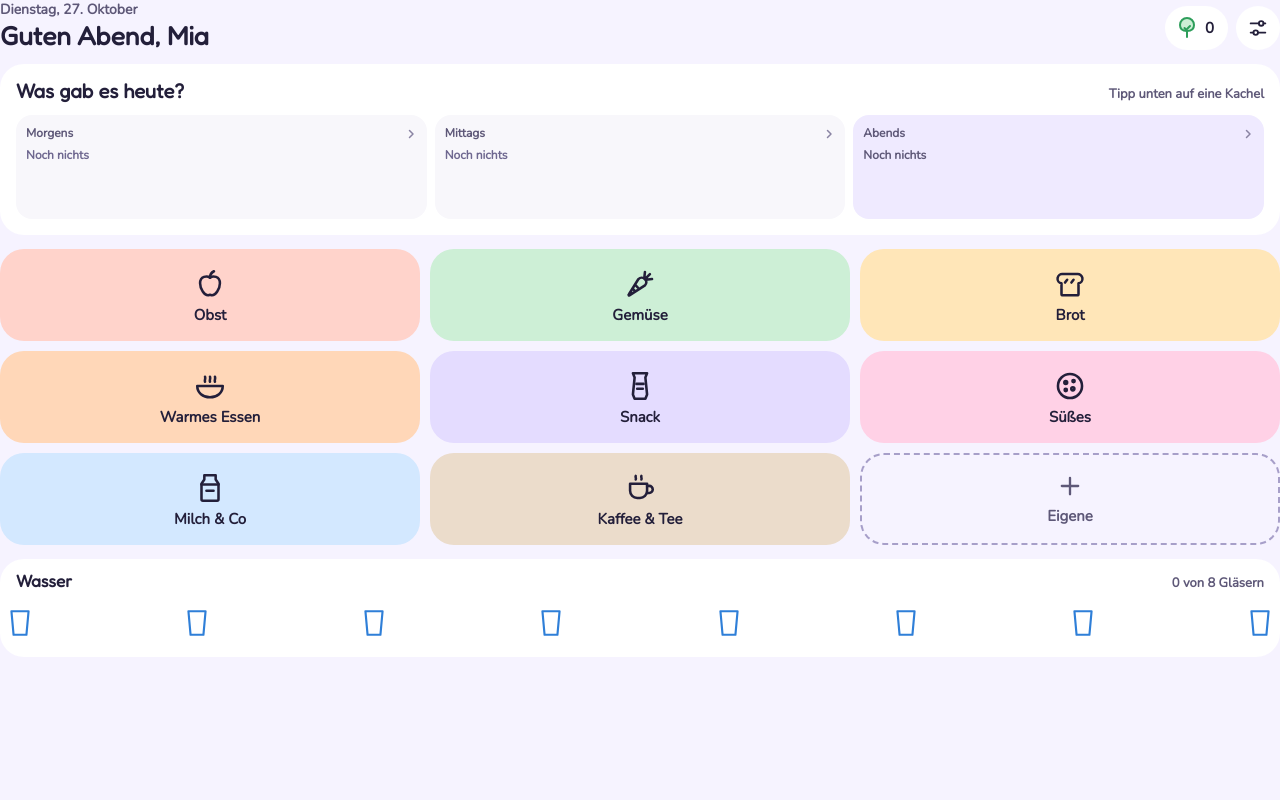
TodayView › a part column opens a sheet listing entries, and delete removes one
Click the button "Obst" at [210, 295], box [0,249,420,341]
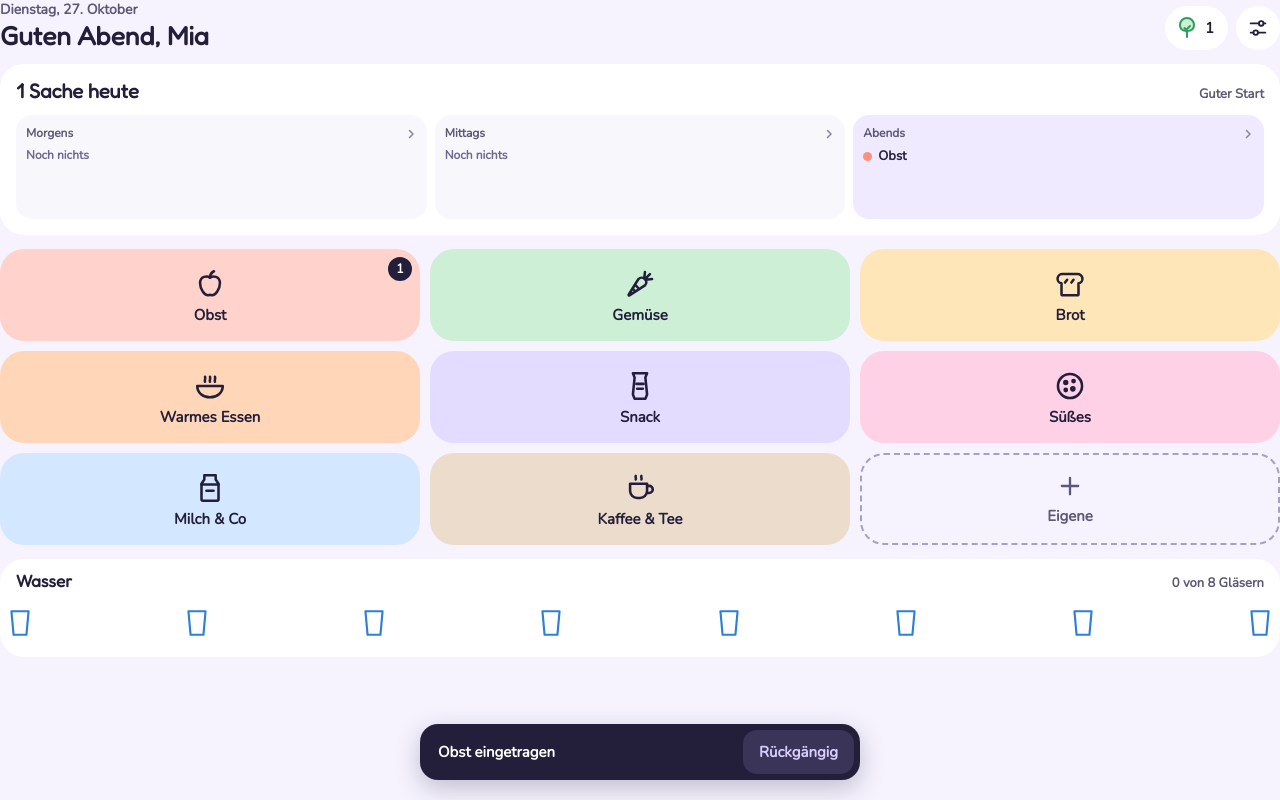
Click the button "Süßes" at [1070, 397], box [860,351,1279,443]
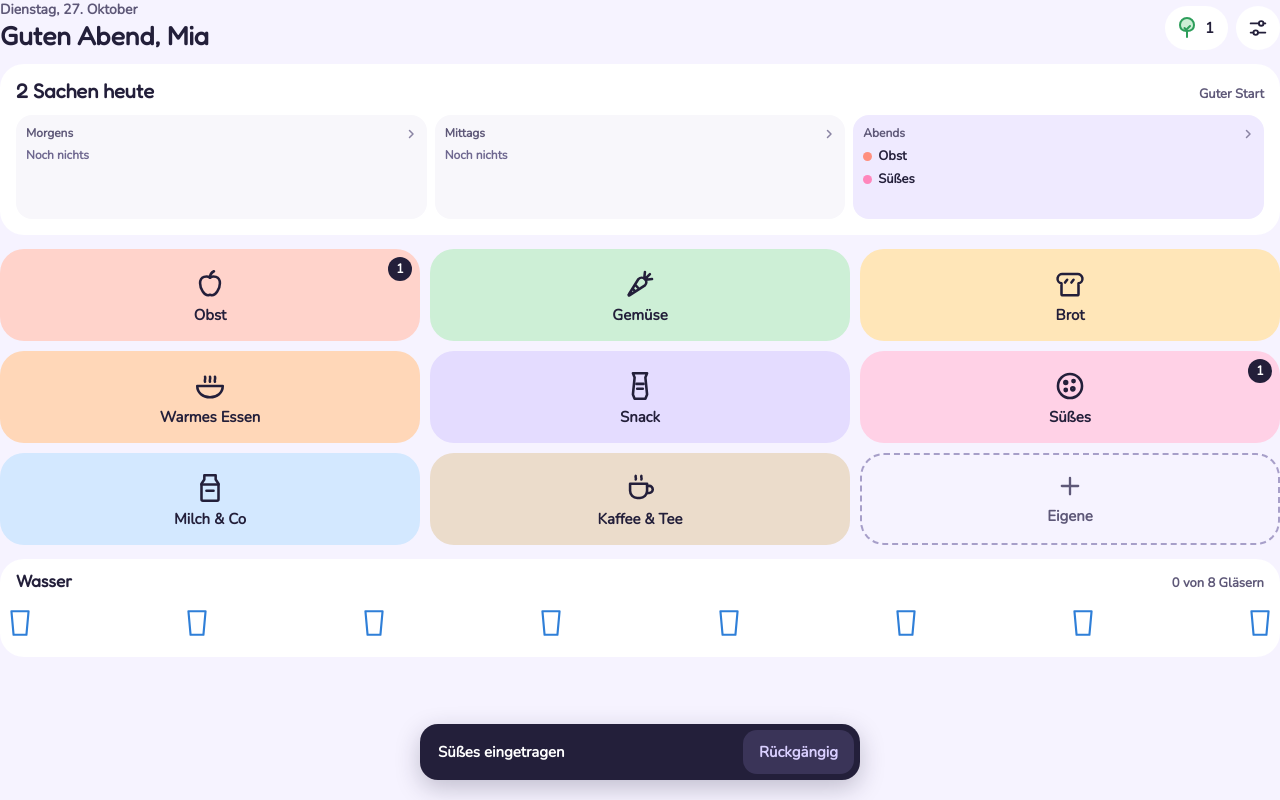
Click the button "Abends Obst Süßes" at [884, 133], box [853,115,1264,219]
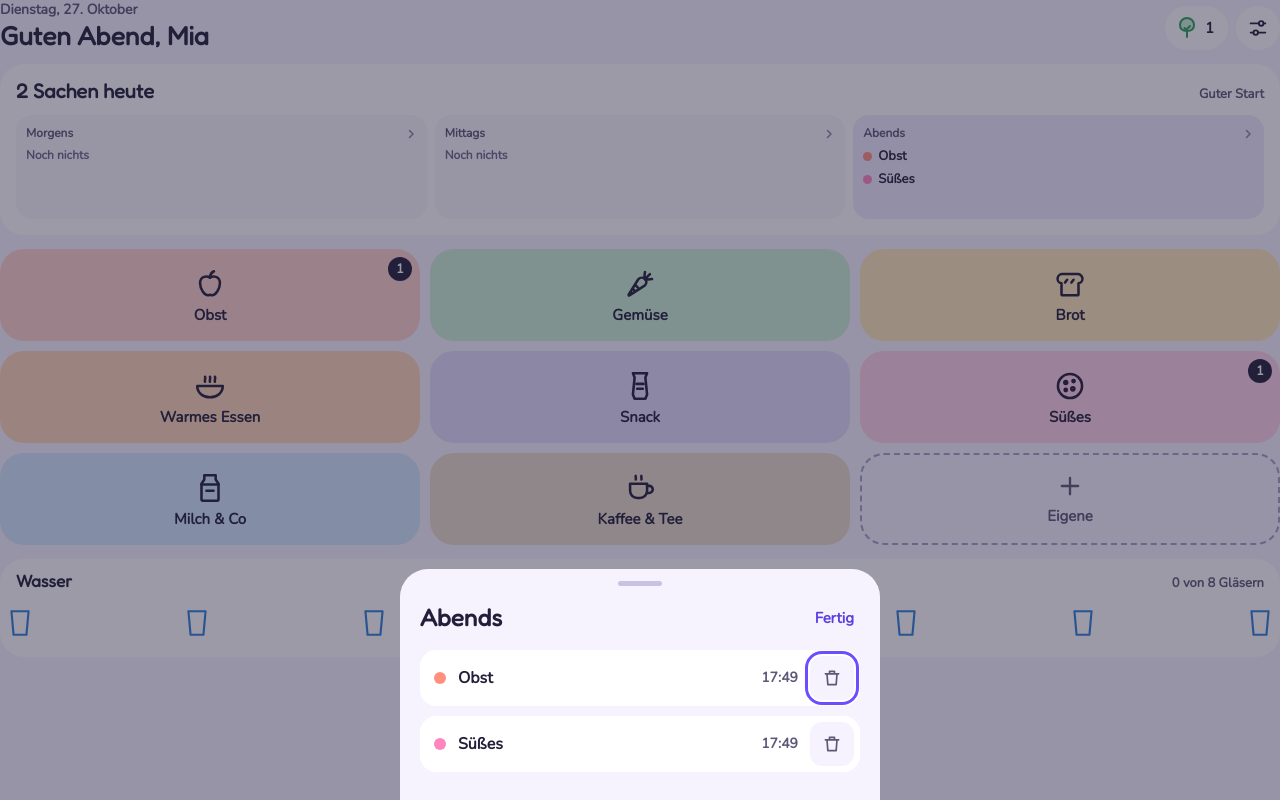
Check: the button "Fertig" is shown, box [809,596,860,640]
Check: the number of list items with class "entry" is 2, box [420,650,860,706]; [420,716,860,772]
Check: the list item with class "entry" shows "Obst", box [458,667,493,689]
Click the 1st button with class "entry__delete" at [832, 678], box [810,656,854,700]
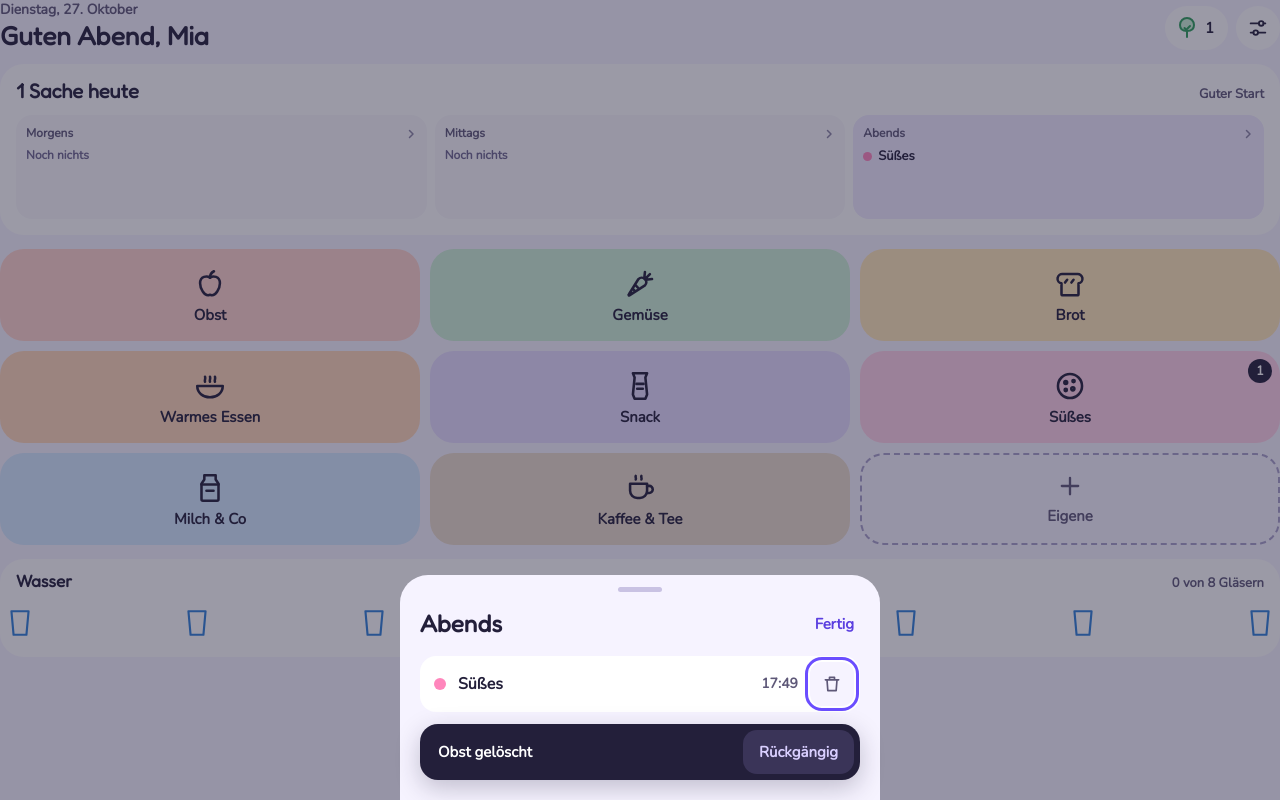
Check: the button with class "entry__delete" is shown
Check: the number of list items with class "entry" is 1, box [420,656,860,712]
Click the button with class "entry__delete" at [832, 684], box [810,662,854,706]
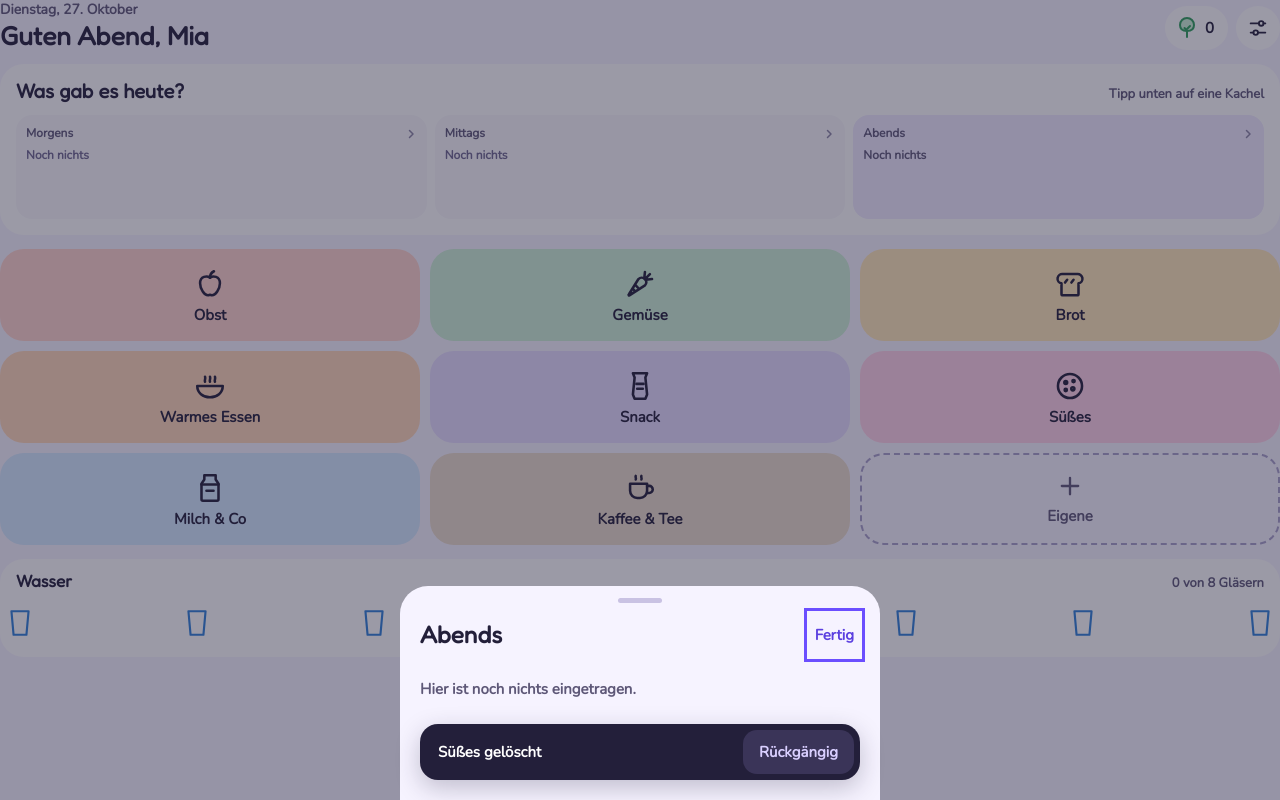
Check: the button "Fertig" is shown, box [809,613,860,657]
Check: the dialog shows "Hier ist noch nichts eingetragen.", box [420,679,636,699]
